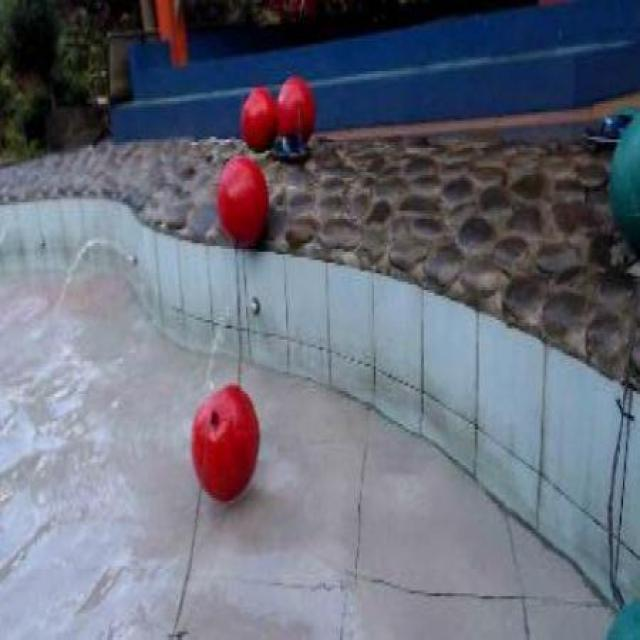buoy: (190, 381, 259, 499), (217, 156, 268, 244), (274, 74, 314, 145), (240, 85, 276, 150)
